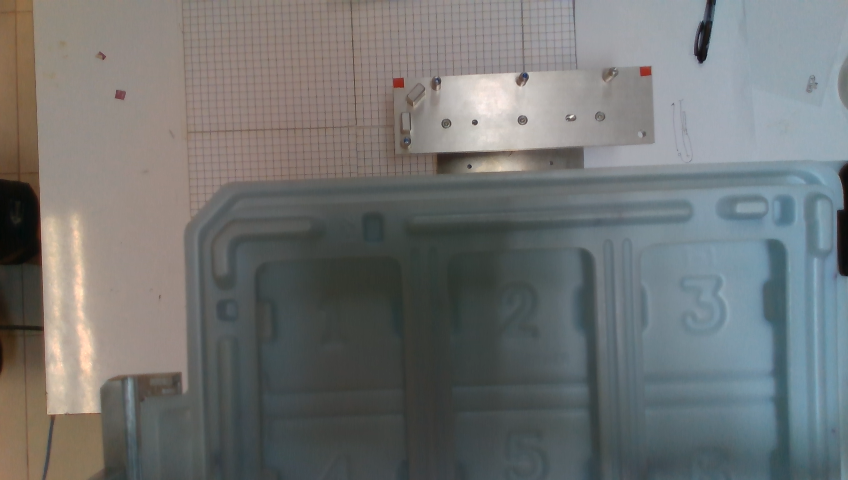red: (639, 66, 652, 77), (393, 78, 404, 88)
